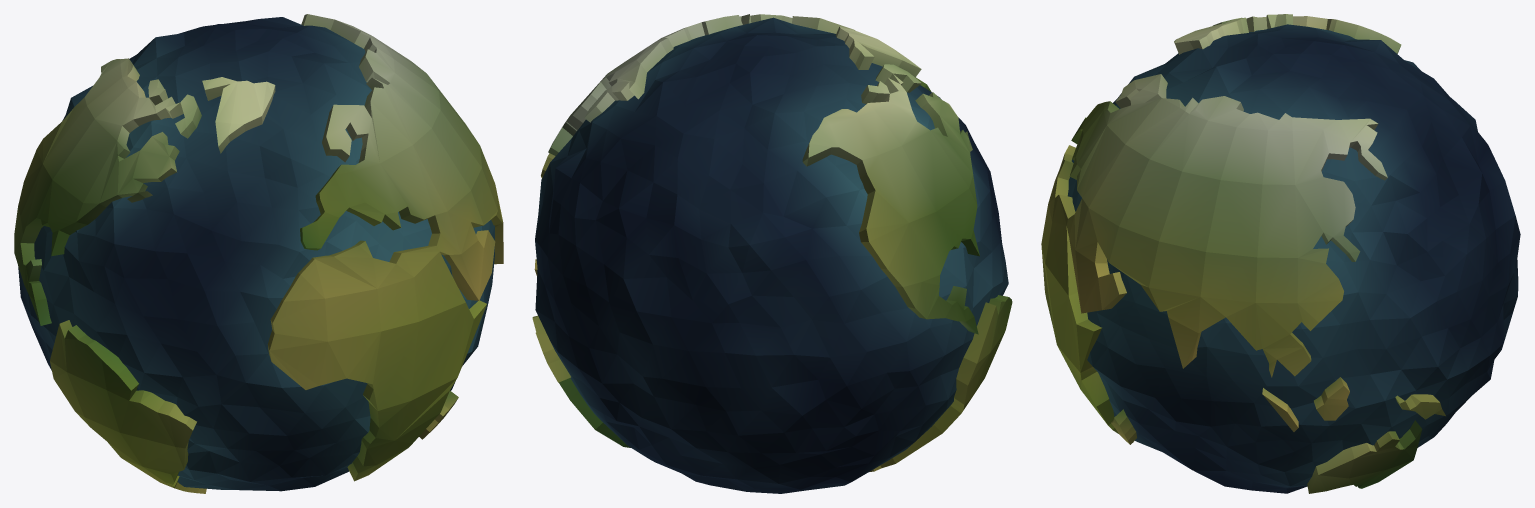
The model's file is Earth.fbx.
The picture shows the model from 3 angles, left to right: view 1: azimuth 30°, elevation 25°; view 2: azimuth 150°, elevation 25°; view 3: azimuth 270°, elevation 25°; orthographic projection.
Visible parts, largest first — view 1: Earth; view 2: Earth; view 3: Earth.
Boxes of the visible parts, x1,y1,x2,y2 form: Earth: (14, 14, 503, 493); Earth: (532, 14, 1012, 493); Earth: (1041, 14, 1520, 493).
Bounding box in the file's own units: 11.89 × 11.46 × 11.69.
